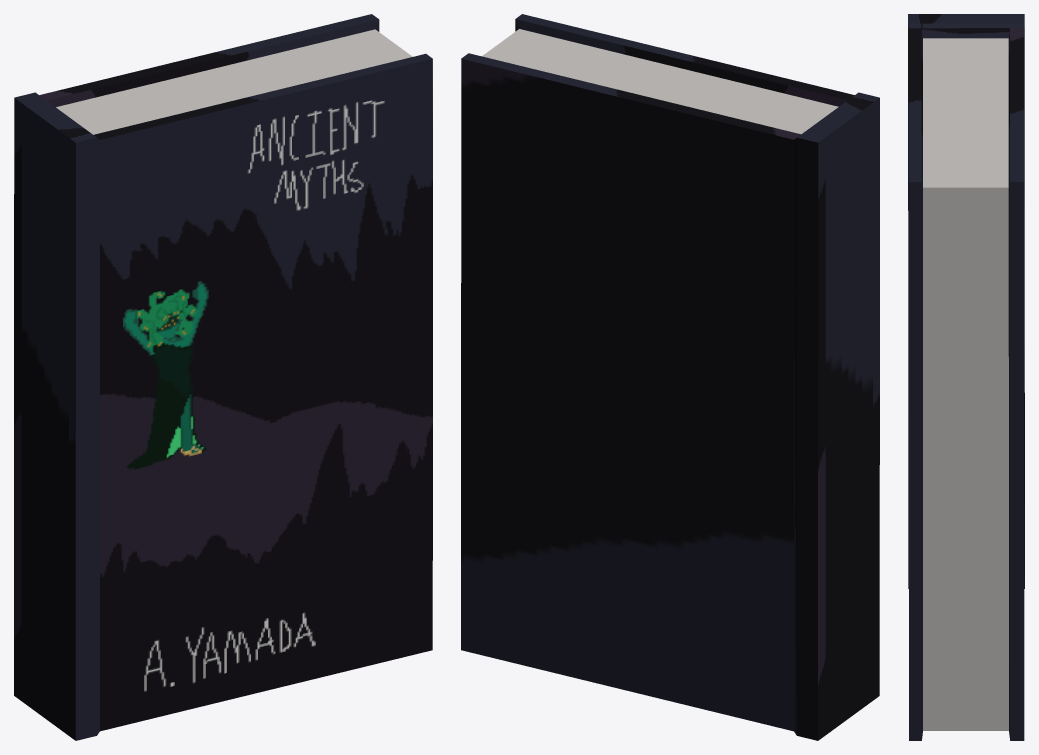
The model's file is ancientmyths.fbx.
3 views of the same model, side by side, from view 1: azimuth 30°, elevation 25°; view 2: azimuth 150°, elevation 25°; view 3: azimuth 270°, elevation 25° (orthographic). The views are drawn at different scales.
Parts seen in each view (by area): view 1: Cube.112; view 2: Cube.112; view 3: Cube.112.
Boxes of the visible parts, x1,y1,x2,y2 form: Cube.112: [14, 14, 432, 740]; Cube.112: [461, 14, 879, 740]; Cube.112: [908, 14, 1024, 740].
Bounding box in the file's own units: 22.87 × 36.59 × 6.85.
